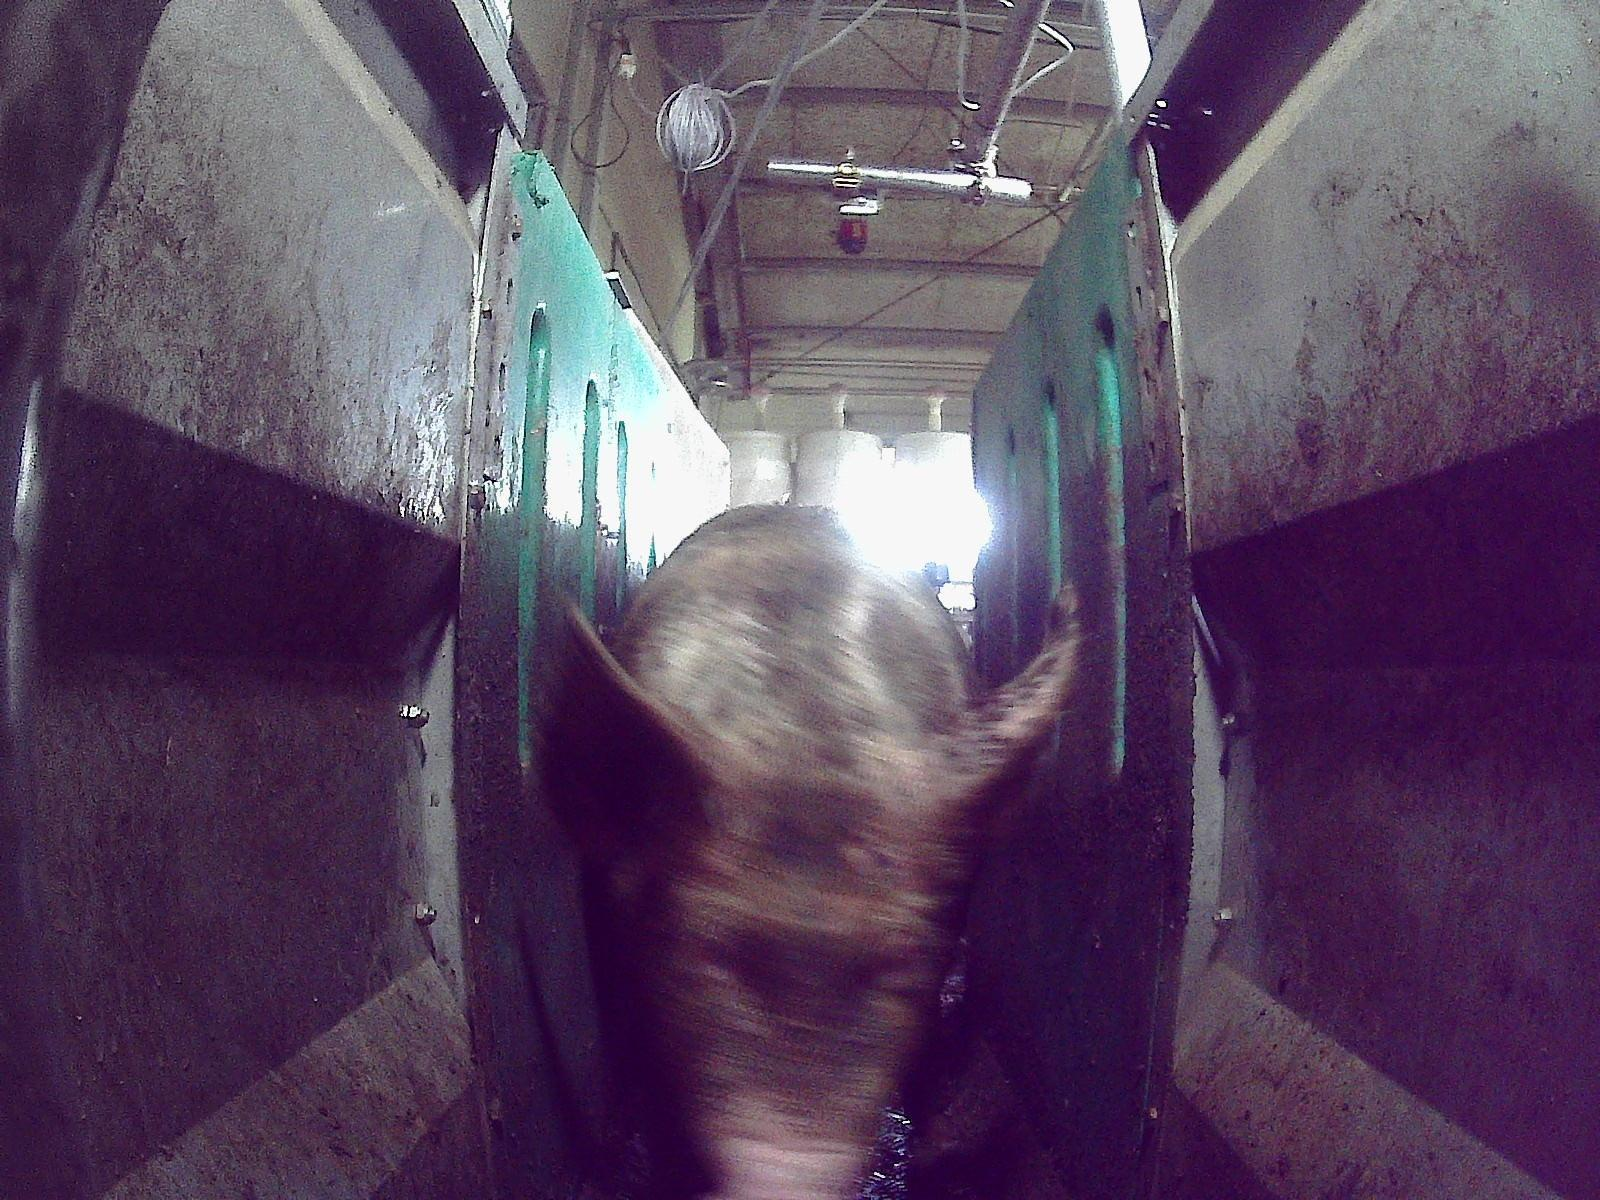Face: (616, 701, 978, 1199)
